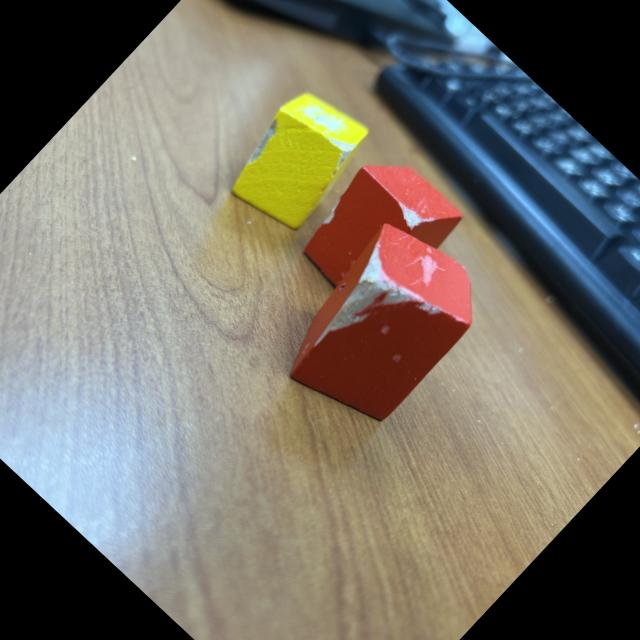broken: (263, 207, 498, 446), (289, 141, 468, 322), (214, 75, 381, 244)
